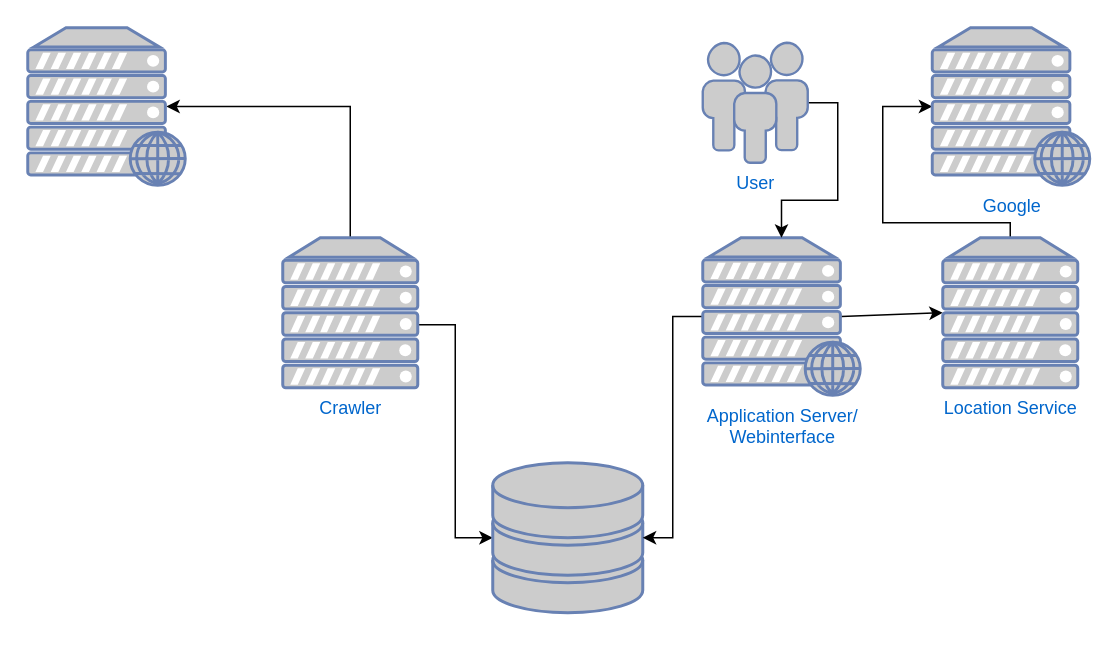
Some shapes in this 1116 by 669 pixel diagram are drawn without their labels. The shapes that lost their labels are listed below. From the top down, each one's box as (x1, y1, x2, y2) in pixels, then its label:
(26, 26, 186, 186): buienradar.nl
(490, 460, 644, 614): Database
